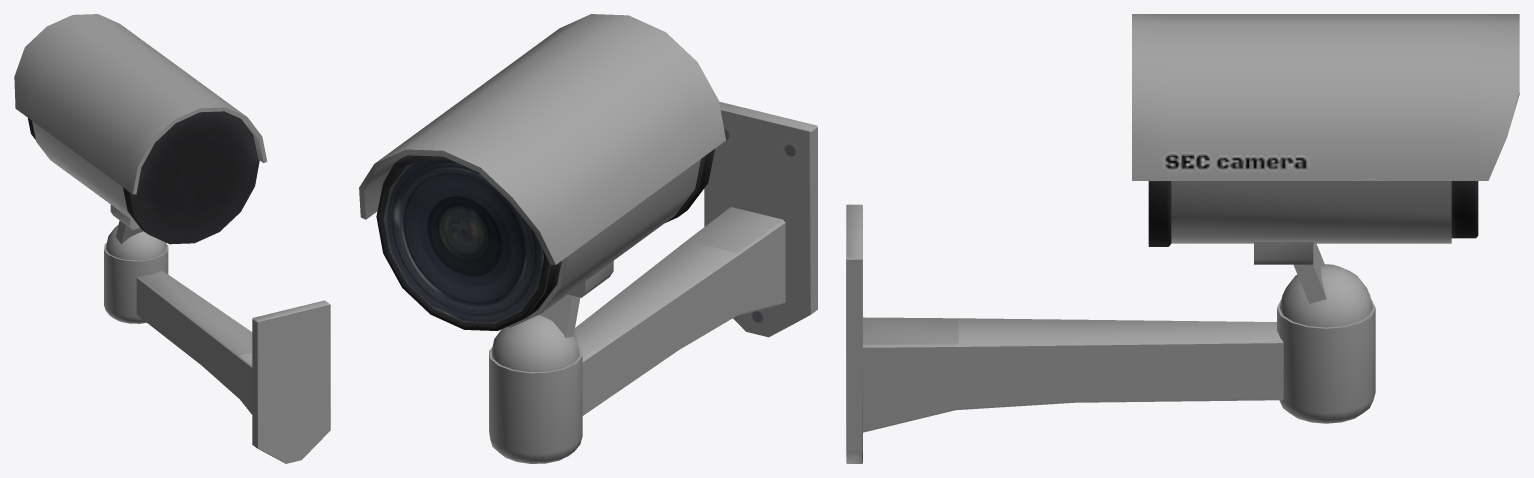
Rendered from Camera.fbx.
The picture shows the model from 3 angles, left to right: view 1: azimuth 30°, elevation 25°; view 2: azimuth 150°, elevation 25°; view 3: azimuth 270°, elevation 25°; orthographic projection. The views are drawn at different scales.
Parts seen in each view (by area): view 1: SecurityCamera; view 2: SecurityCamera; view 3: SecurityCamera.
Part boxes in pixels (x1,y1,x2,y2): SecurityCamera: (14,14,330,463); SecurityCamera: (359,14,817,463); SecurityCamera: (846,14,1519,463).
Bounding box in the file's own units: 73.01 × 148 × 208.
